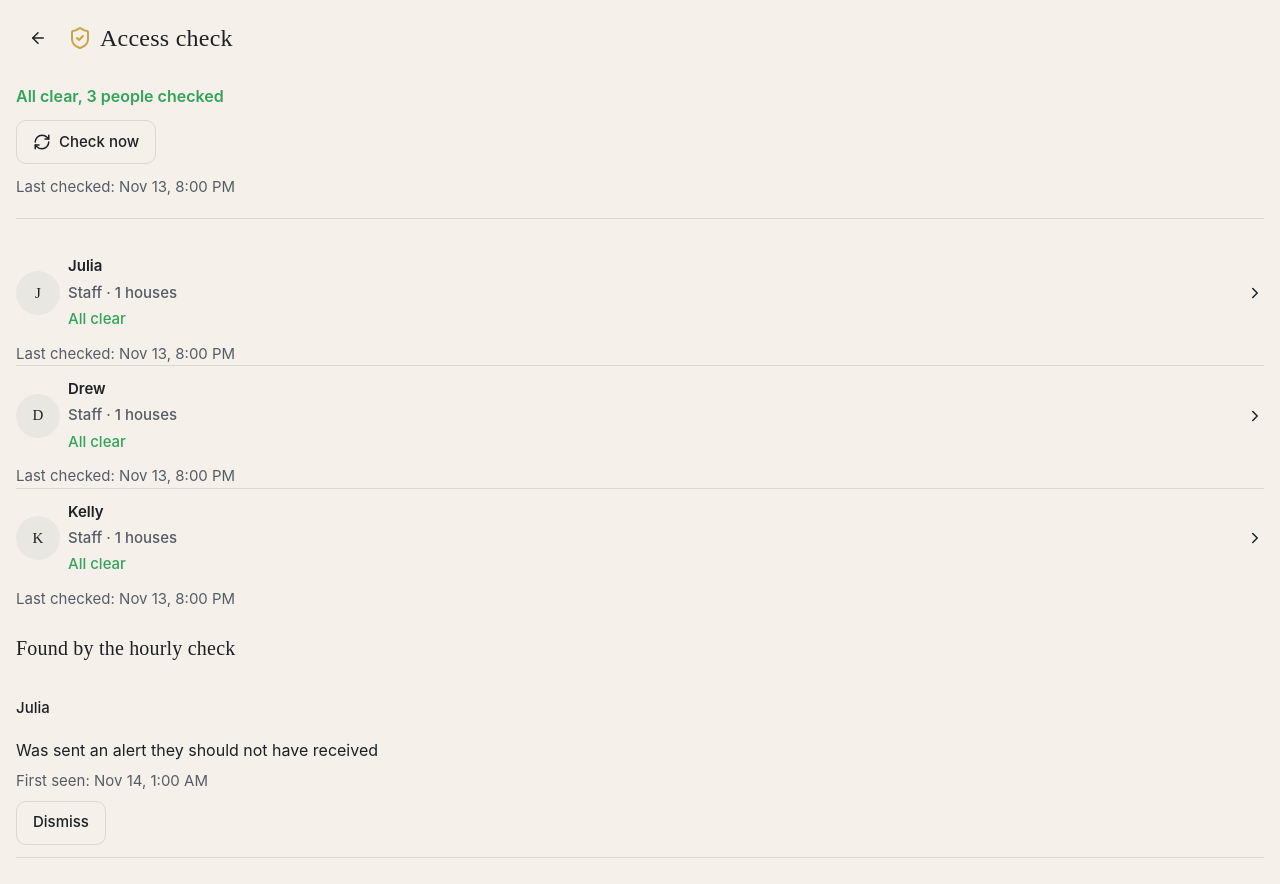
Scenario: Access check page › checks sequentially with progress, updates each result and continues after a failure
Later steps or results of the test are not shown.
Expected: the text "All clear, 3 people checked" is shown, [16,86,224,106]
Click the button "Check now" at (86, 142), box [16,120,156,164]
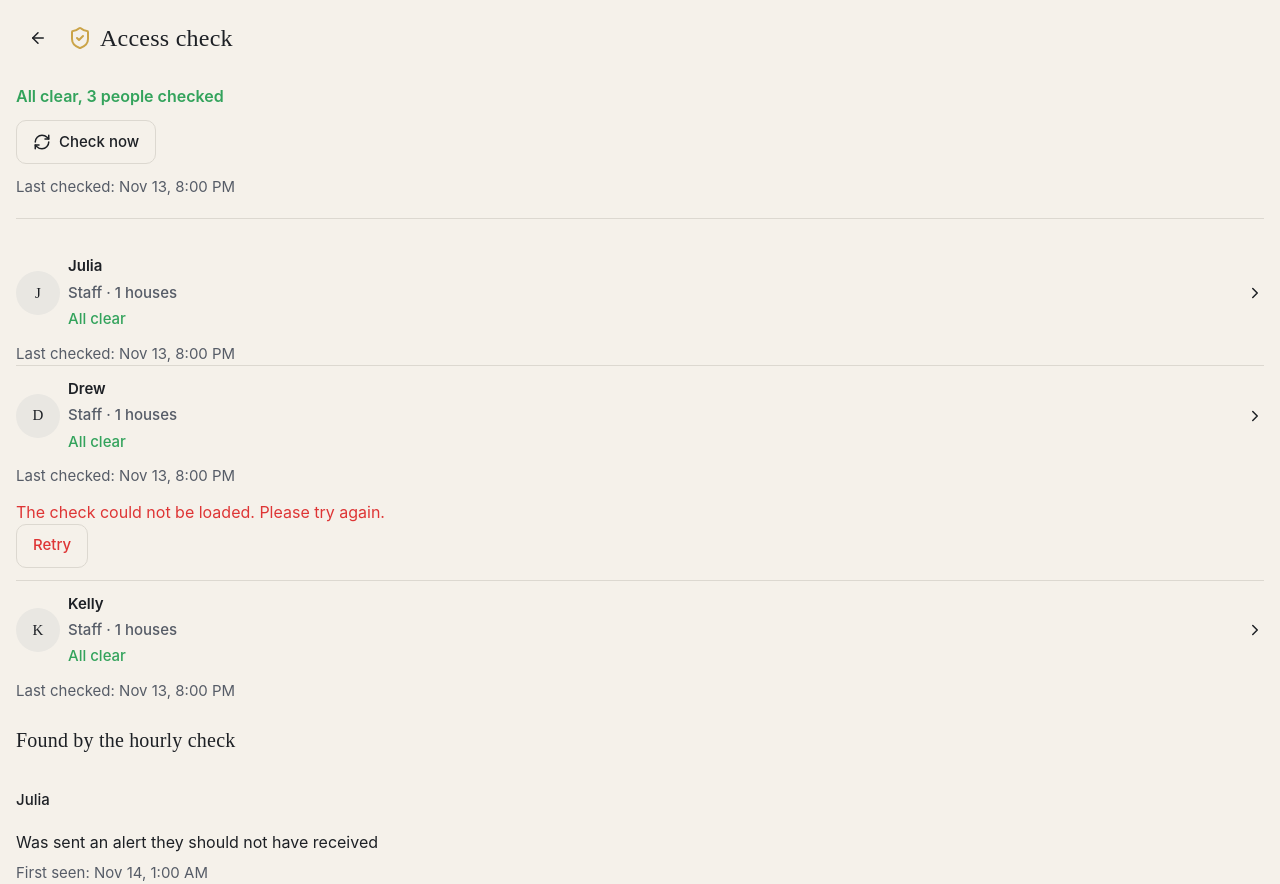
Now the message shows "The check could not be loaded", box [16,502,385,522]
Click the button "Retry" at (52, 546), box [16,524,88,568]
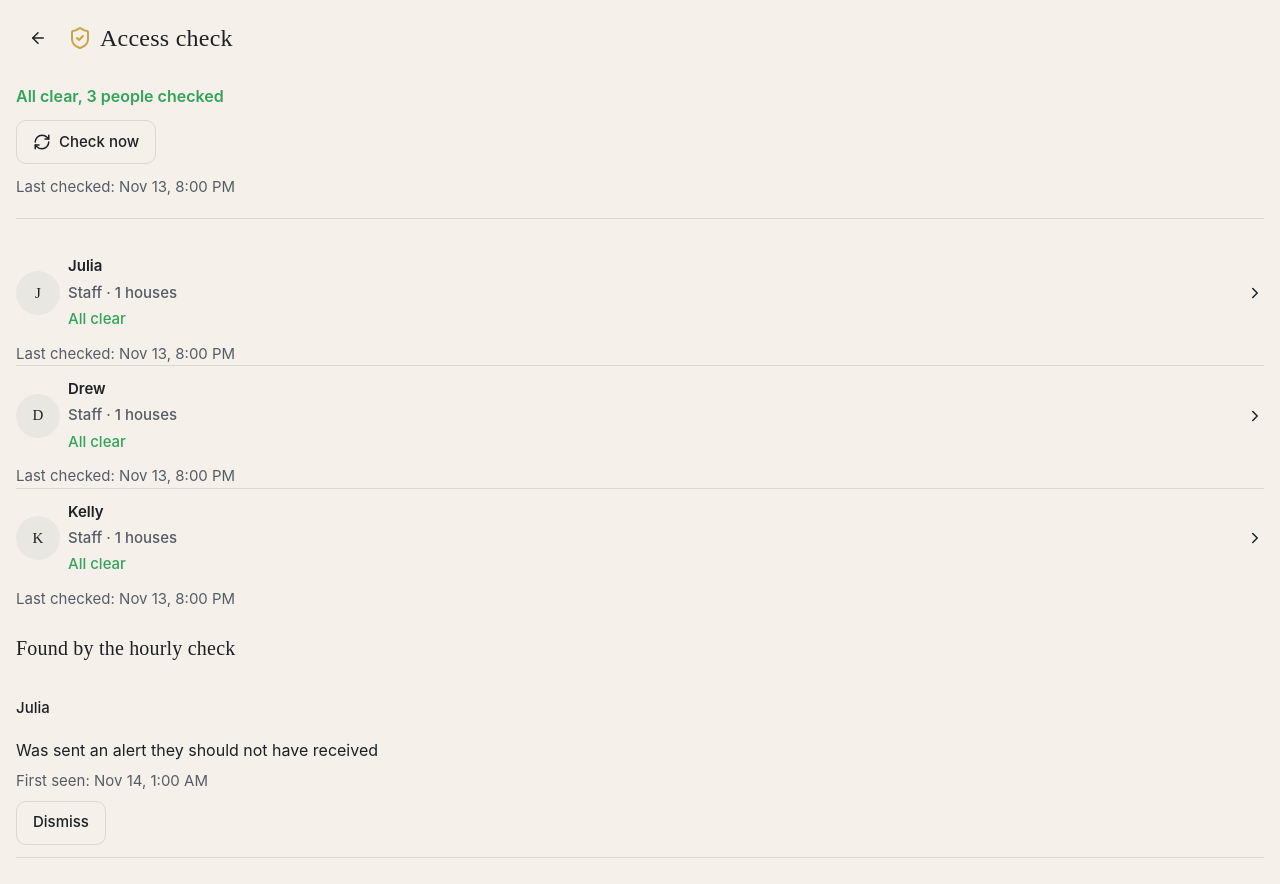
Now the message "The check could not be loaded. Please try again. Retry" is gone
